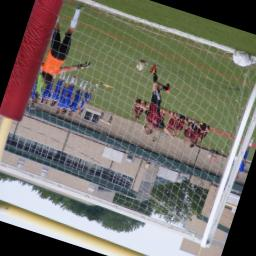football: (136, 60, 146, 72)
